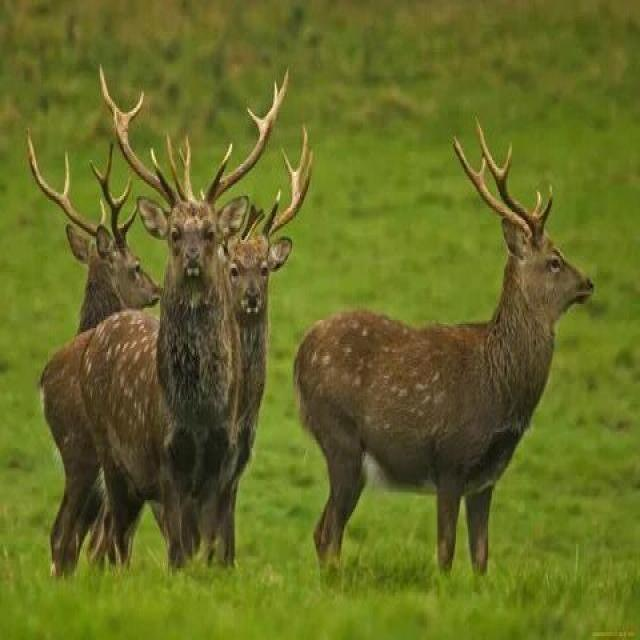deer: (254, 87, 596, 586), (52, 139, 298, 577)
